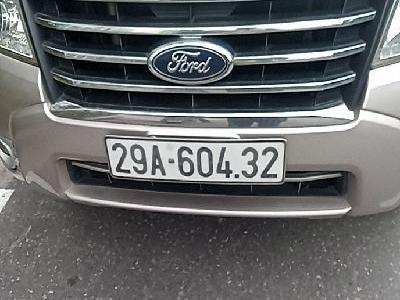lisence: (103, 134, 288, 186)
